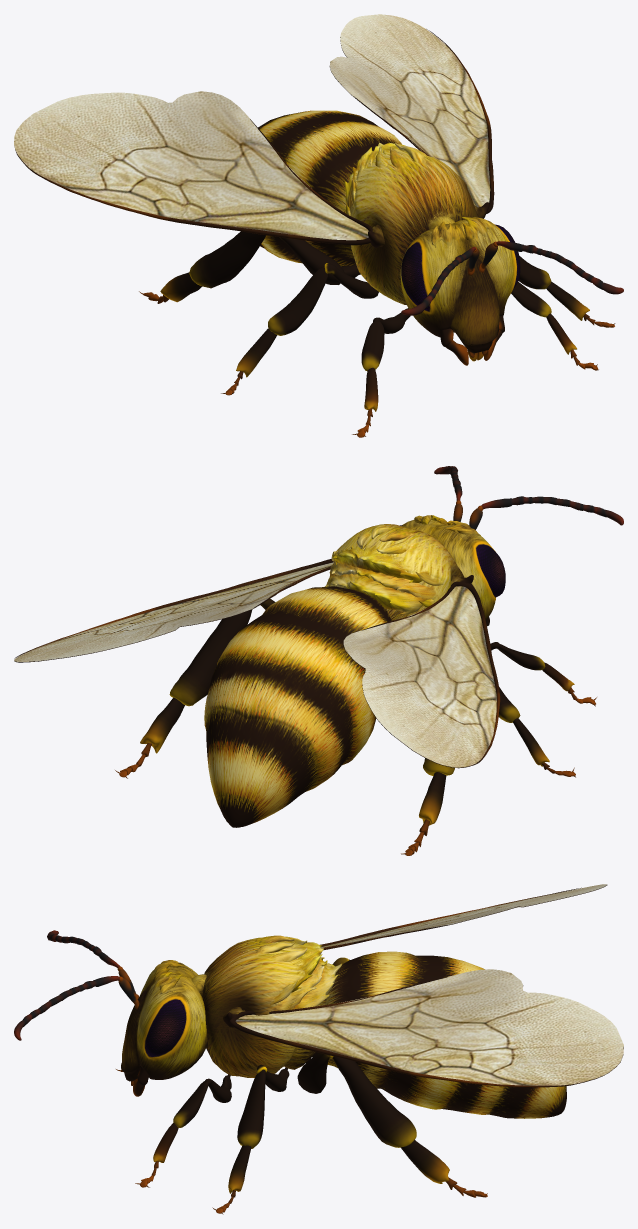
File: europeia.glb
3 renders of one model, top to bottom at view 1: azimuth 30°, elevation 25°; view 2: azimuth 150°, elevation 25°; view 3: azimuth 270°, elevation 25°, orthographic. The views are drawn at different scales.
Parts seen in each view (by area): view 1: skeletal.1; view 2: skeletal.1; view 3: skeletal.1.
Part boxes in pixels (<box>): skeletal.1: <box>14,14,623,437</box>; skeletal.1: <box>14,466,623,855</box>; skeletal.1: <box>14,884,623,1214</box>.
Bounding box in the file's own units: 17.28 × 7.62 × 22.11.
Materials: 1 (1 with a texture image).
